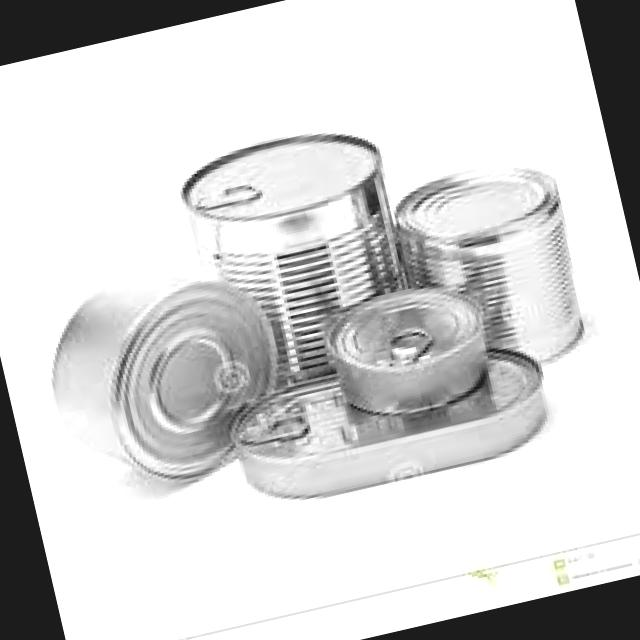metal: (183, 134, 402, 382), (233, 351, 547, 498), (53, 273, 277, 479), (396, 168, 583, 362), (326, 287, 488, 415)
